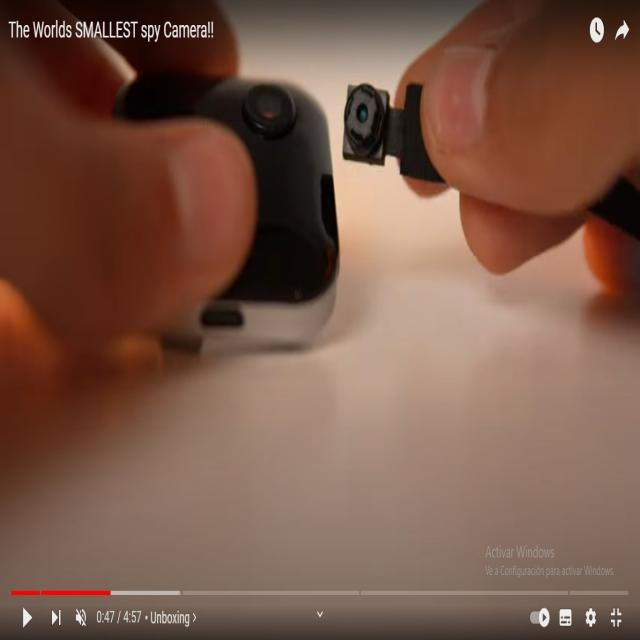hidden camera: (244, 83, 297, 130), (347, 87, 377, 142)
